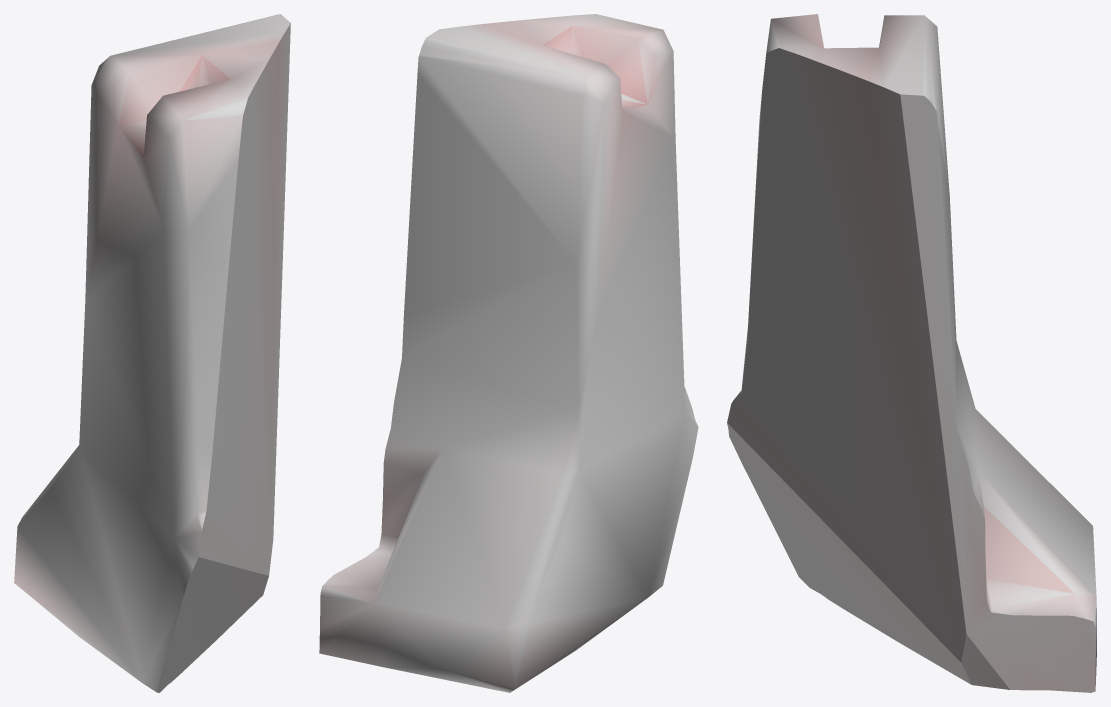
Rendered from Barrier_01.fbx.
The picture shows the model from 3 angles, left to right: view 1: azimuth 30°, elevation 25°; view 2: azimuth 150°, elevation 25°; view 3: azimuth 270°, elevation 25°; orthographic projection. The views are drawn at different scales.
Parts seen in each view (by area): view 1: Barrier_01; view 2: Barrier_01; view 3: Barrier_01.
Boxes of the visible parts, x1,y1,x2,y2 form: Barrier_01: [14, 14, 290, 692]; Barrier_01: [319, 14, 698, 692]; Barrier_01: [727, 14, 1096, 692].
Bounding box in the file's own units: 0.2414 × 0.6399 × 0.3656.
